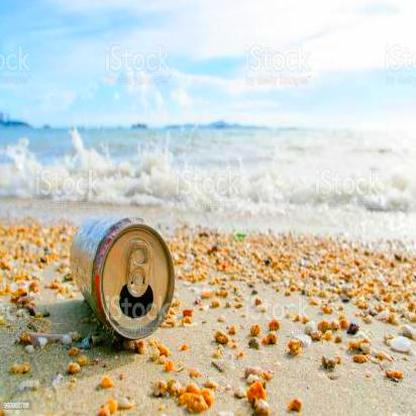can: (69, 216, 176, 340)
